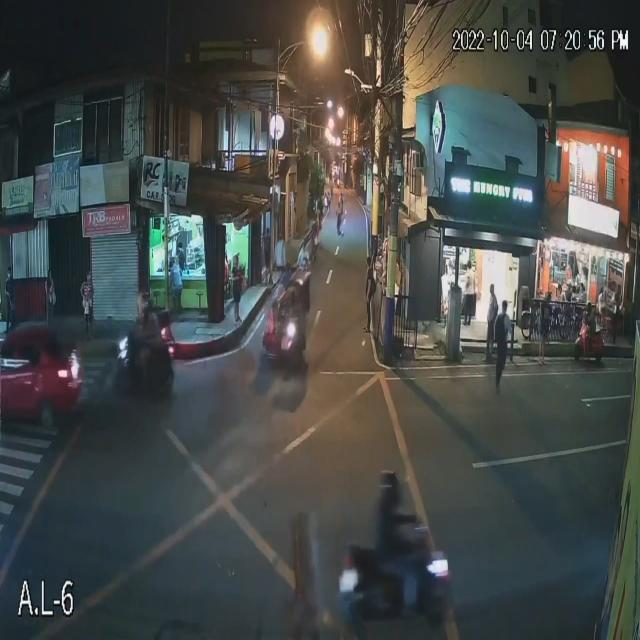Full-Faced: (380, 470, 402, 510)
